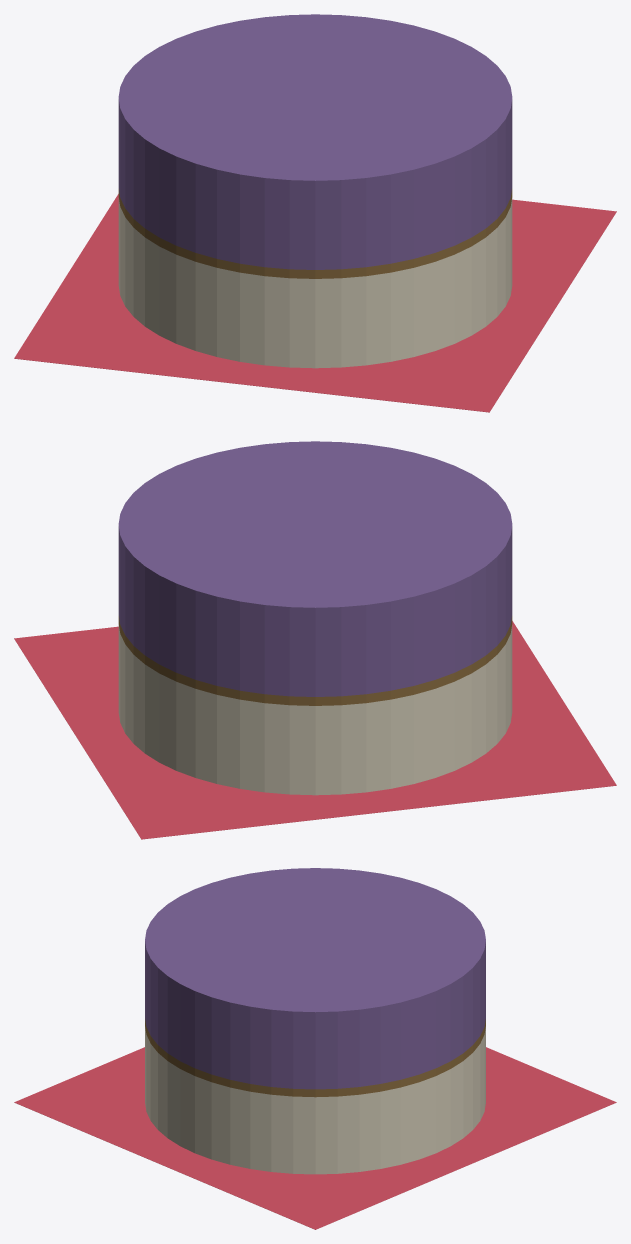
File: VCU.glb
The picture shows the model from 3 angles, top to bottom: view 1: azimuth 30°, elevation 25°; view 2: azimuth 150°, elevation 25°; view 3: azimuth 270°, elevation 25°; orthographic projection. The views are drawn at different scales.
Visible parts, largest first — view 1: Mesh_Mesh_head_geo.001_lambert2SG.001; view 2: Mesh_Mesh_head_geo.001_lambert2SG.001; view 3: Mesh_Mesh_head_geo.001_lambert2SG.001.
Part boxes in pixels (x1,y1,x2,y2): Mesh_Mesh_head_geo.001_lambert2SG.001: [14, 14, 616, 412]; Mesh_Mesh_head_geo.001_lambert2SG.001: [14, 441, 616, 839]; Mesh_Mesh_head_geo.001_lambert2SG.001: [14, 868, 616, 1229].
Size of the model in its own units: 0.0354 by 0.0105 by 0.0354.
